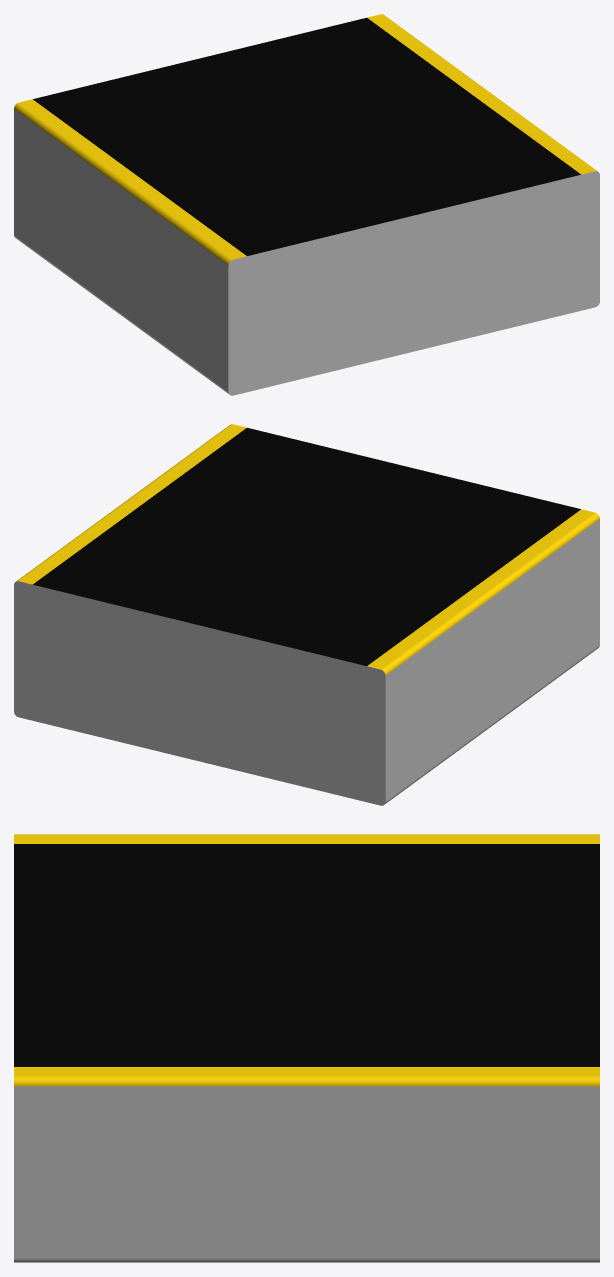
The model's file is Floortile-Glow.fbx.
The picture shows the model from 3 angles, top to bottom: view 1: azimuth 30°, elevation 25°; view 2: azimuth 150°, elevation 25°; view 3: azimuth 270°, elevation 25°; orthographic projection. The views are drawn at different scales.
Parts seen in each view (by area): view 1: Cube; view 2: Cube; view 3: Cube.
Part boxes in pixels (x1,y1,x2,y2): Cube: [14, 14, 599, 395]; Cube: [14, 424, 599, 805]; Cube: [14, 834, 599, 1262].
Size of the model in its own units: 200 by 70 by 200.
